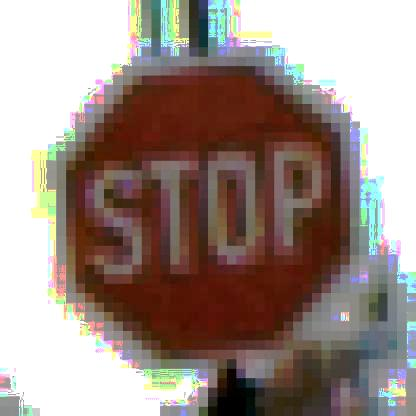Stop Sign: (59, 44, 370, 368)
